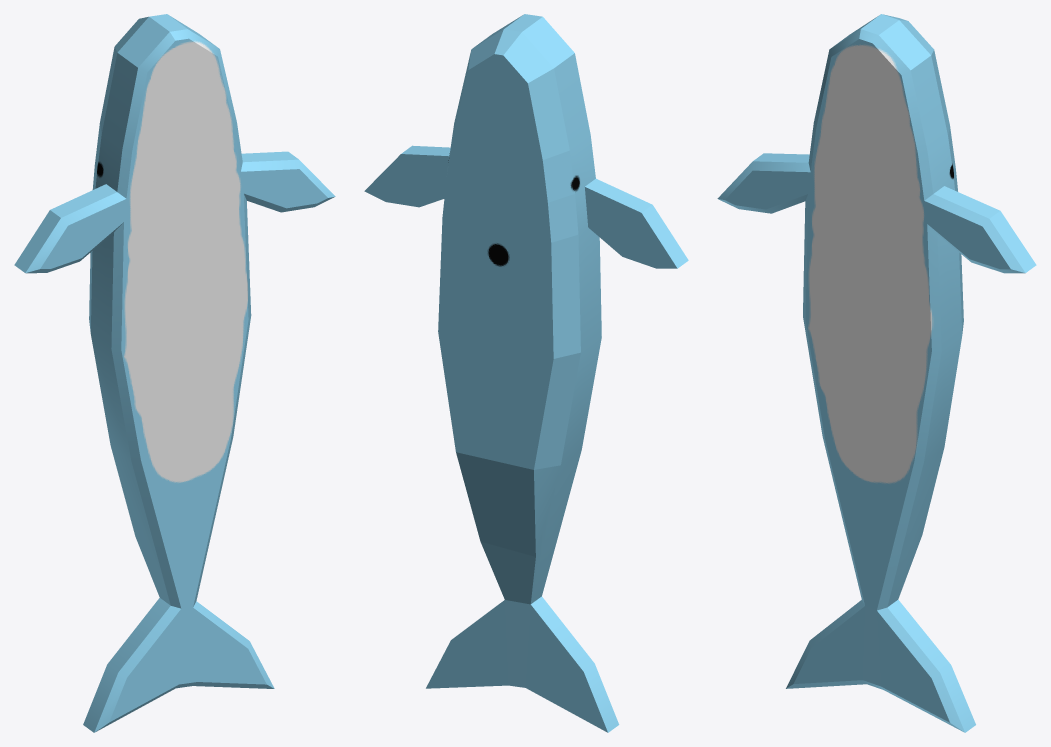
Rendered from whale.fbx.
The picture shows the model from 3 angles, left to right: view 1: azimuth 30°, elevation 25°; view 2: azimuth 150°, elevation 25°; view 3: azimuth 330°, elevation 25°; orthographic projection.
Visible parts, largest first — view 1: node_id13; view 2: node_id13; view 3: node_id13.
Boxes of the visible parts, x1,y1,x2,y2 form: node_id13: (14,14,335,732); node_id13: (364,14,688,732); node_id13: (717,14,1036,732).
Bounding box in the file's own units: 0.2423 × 0.5093 × 0.0523.
1 material, 1 textured.
